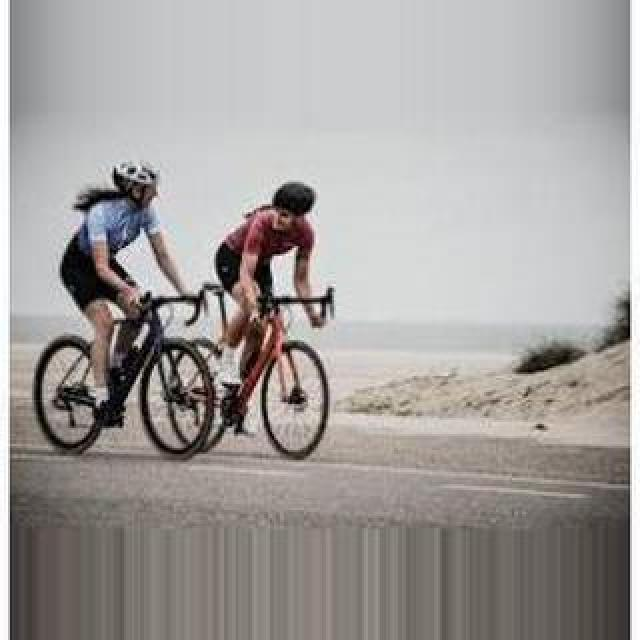MC-Bike: (60, 160, 194, 434), (212, 182, 328, 432)
Person: (166, 271, 332, 461), (36, 286, 218, 458)
